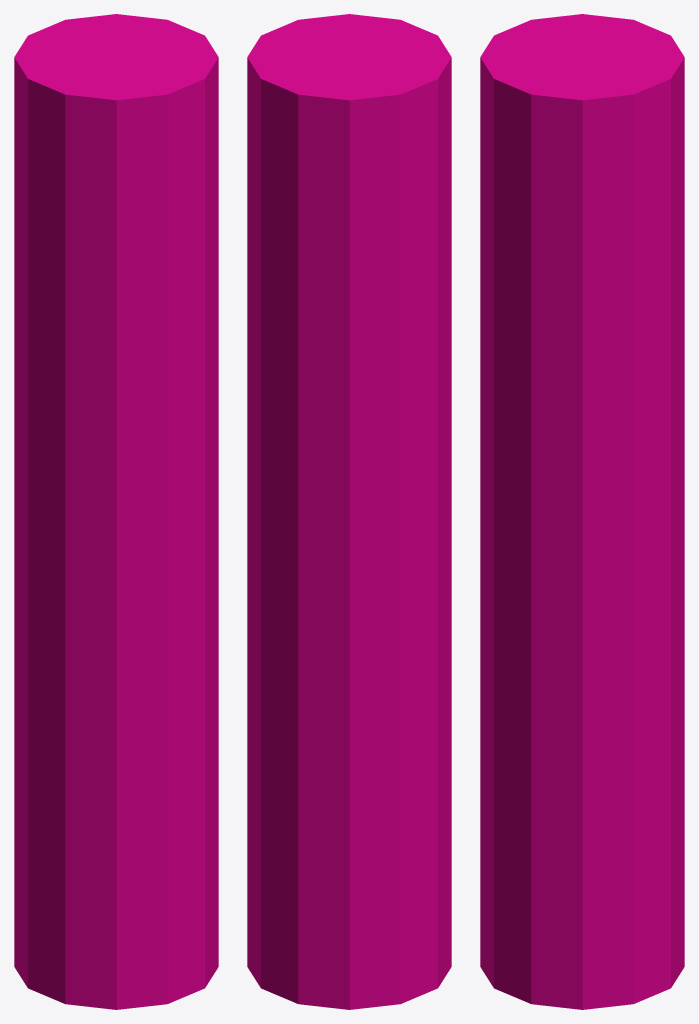
The model's file is Furniture_Hinge.fbx.
The picture shows the model from 3 angles, left to right: view 1: azimuth 30°, elevation 25°; view 2: azimuth 150°, elevation 25°; view 3: azimuth 270°, elevation 25°; orthographic projection.
Visible parts, largest first — view 1: Furniture_Hinge; view 2: Furniture_Hinge; view 3: Furniture_Hinge.
Boxes of the visible parts, x1,y1,x2,y2 form: Furniture_Hinge: [14, 14, 218, 1009]; Furniture_Hinge: [247, 14, 451, 1009]; Furniture_Hinge: [480, 14, 684, 1009].
Size of the model in its own units: 13.58 by 66.68 by 13.58.
